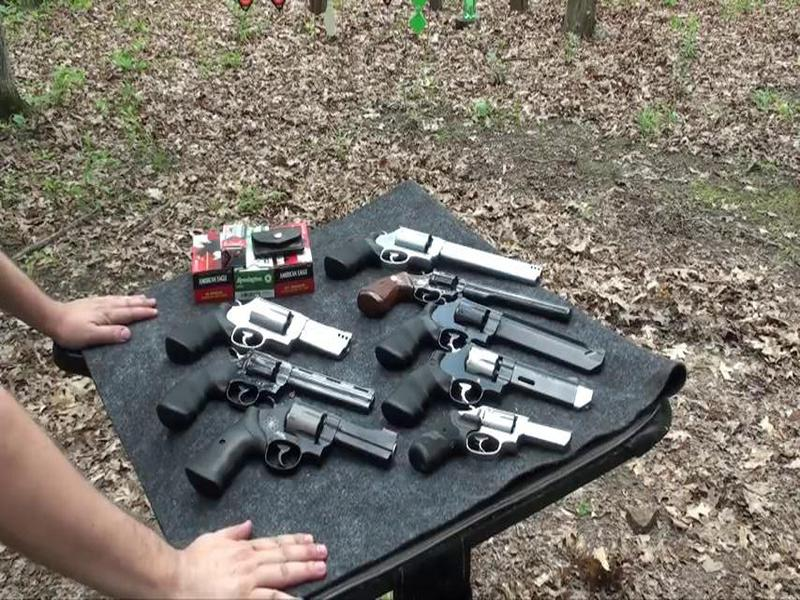Revolver: (308, 206, 567, 305), (189, 389, 394, 505), (171, 280, 360, 376)
